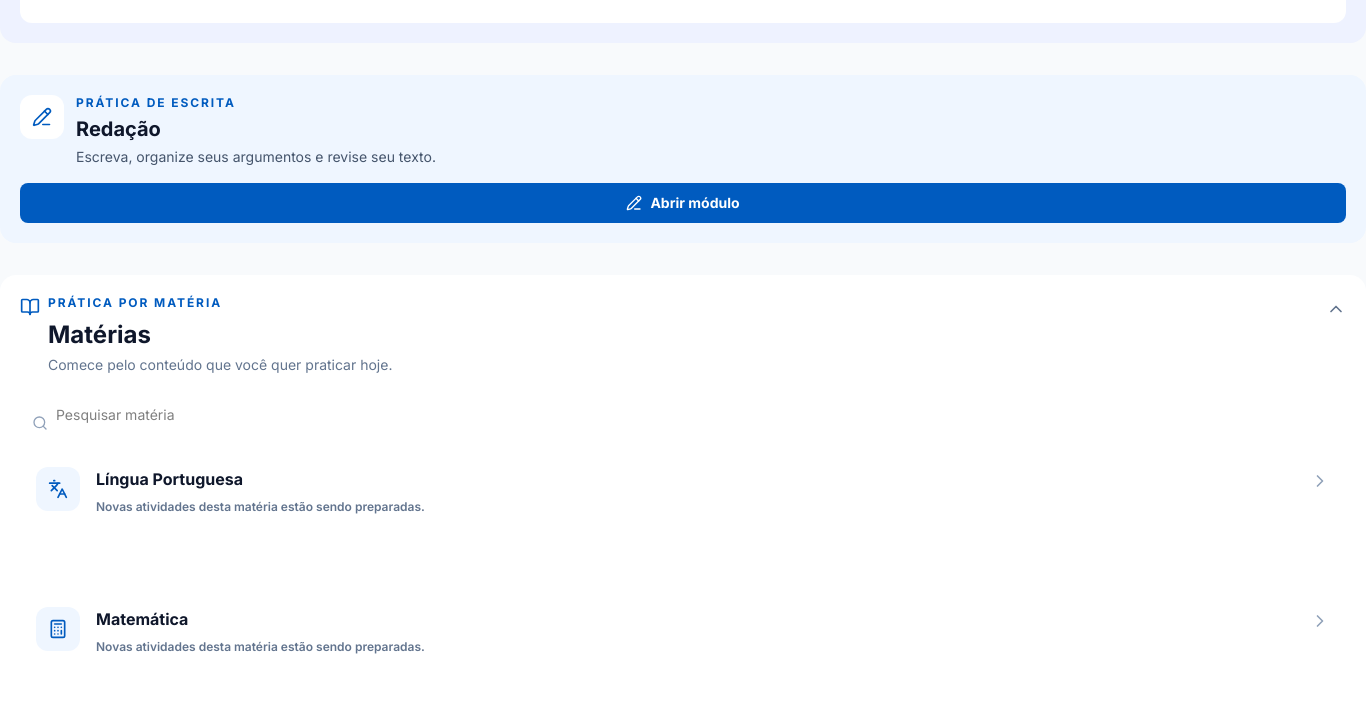
Test: StudyCenterPage › inicia Matérias expandida e permite recolher e reabrir
(page scrolled)
Check: the link that starts with "Matemática" is shown, box [20,591,1346,718]
Click the button "Matérias" at (135, 302), box [20,295,1346,375]
(page scrolled)
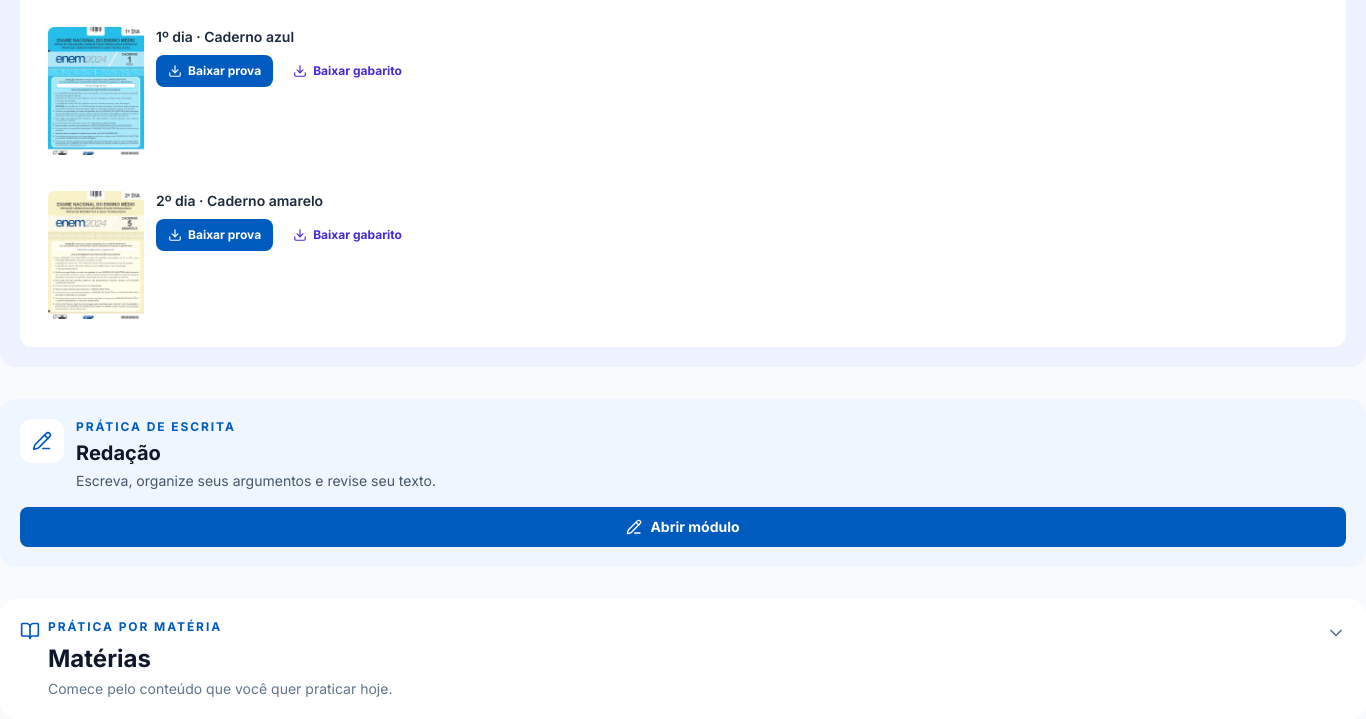
Check: the field labelled "Pesquisar matéria" is not shown
Check: the button "Matérias" is collapsed
Click the button "Matérias" at (135, 626), box [20,619,1346,699]
(page scrolled)
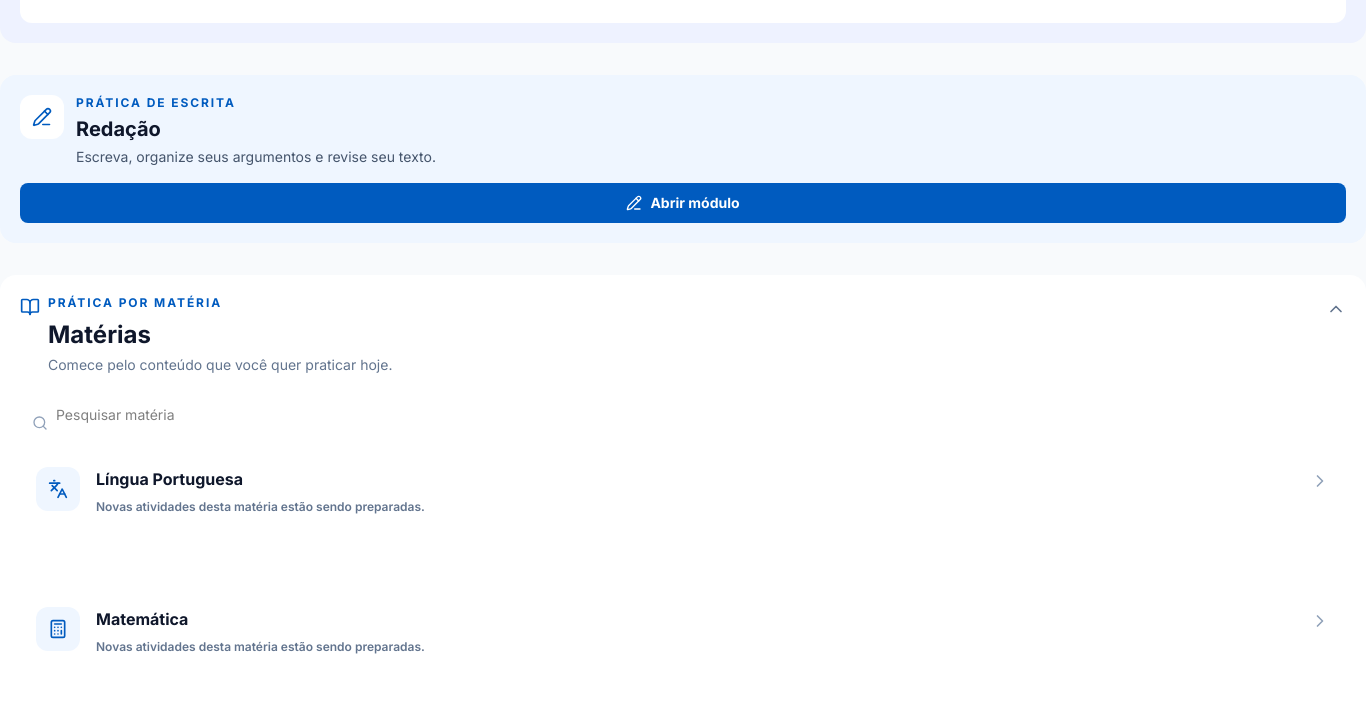
Check: the button "Matérias" is expanded, box [20,295,1346,375]
Check: the field labelled "Pesquisar matéria" is shown, box [20,395,1346,435]
Check: the link that starts with "Matemática" is shown, box [20,591,1346,718]
